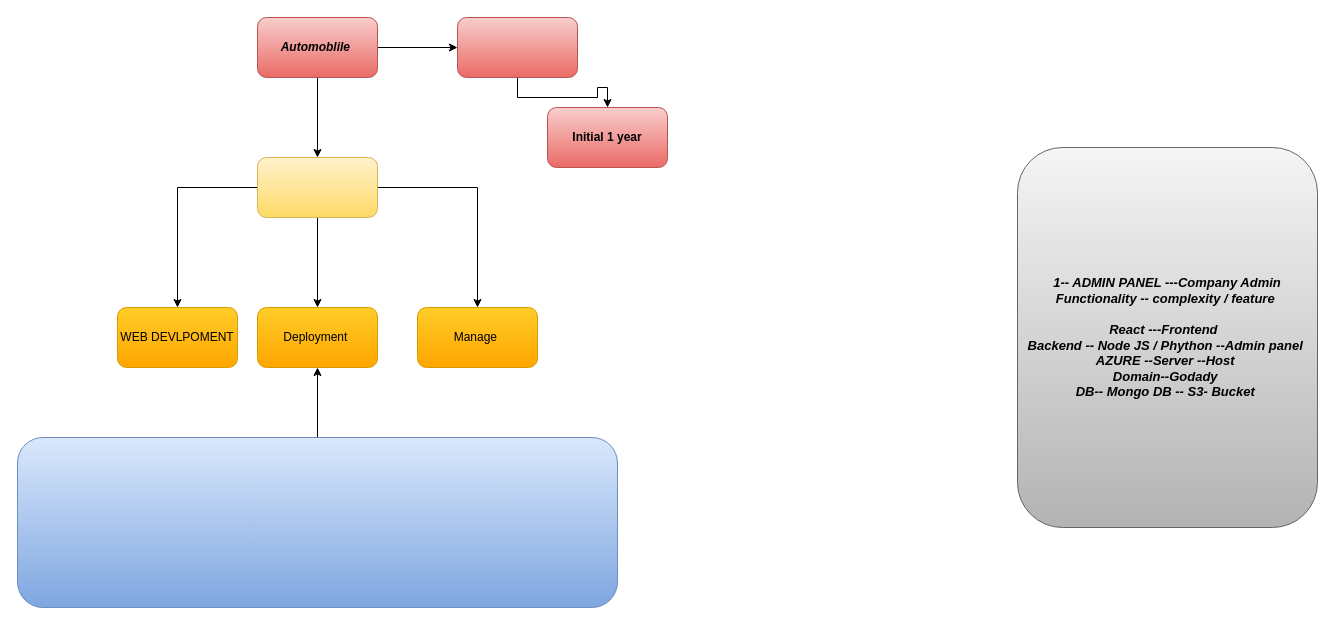
Some shapes in this 1335 by 625 pixel diagram are drawn without their labels. Here are the shapes that lost their labels. From the top down, the box of each, then its label:
(456, 16, 578, 78): 2000 EMP
(256, 156, 378, 218): SSL CLOUD
(16, 436, 618, 608): Process Charges
